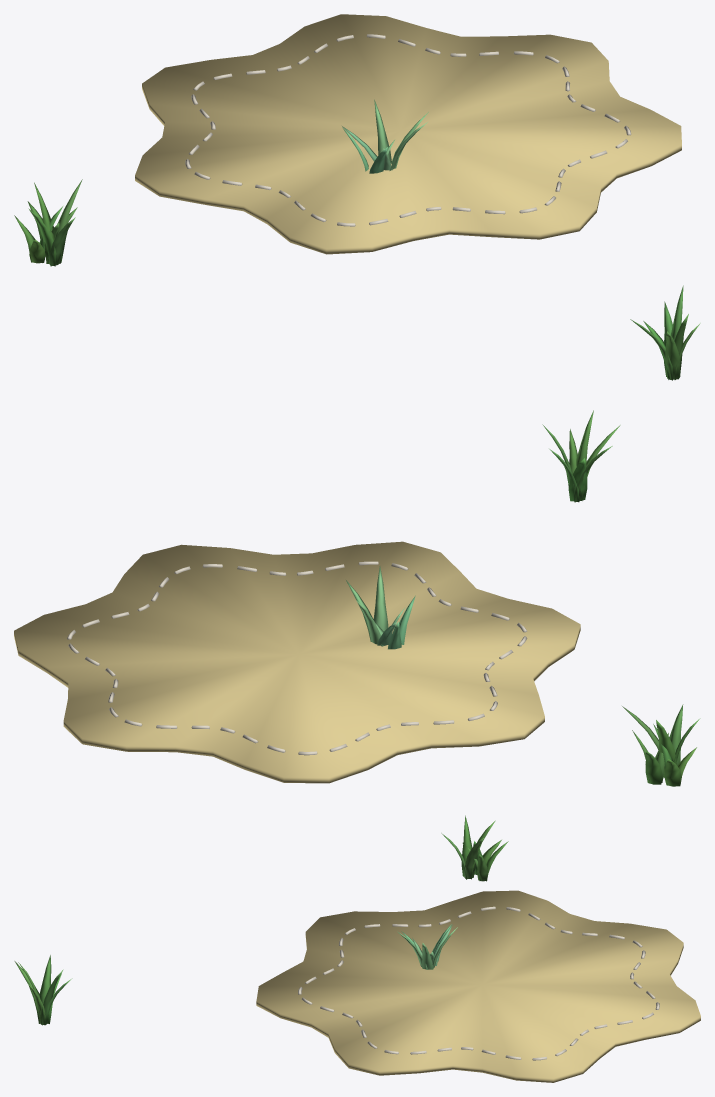
File: W3_FloraRing_12_11.fbx
3 views of the same model, one above another, from view 1: azimuth 30°, elevation 25°; view 2: azimuth 150°, elevation 25°; view 3: azimuth 270°, elevation 25° (orthographic). The views are drawn at different scales.
Parts seen in each view (by area): view 1: W3_FloraRing_12_11; view 2: W3_FloraRing_12_11; view 3: W3_FloraRing_12_11.
Part boxes in pixels (x1,y1,x2,y2): W3_FloraRing_12_11: (14,14,700,380); W3_FloraRing_12_11: (14,410,700,786); W3_FloraRing_12_11: (14,815,700,1082).
Size of the model in its own units: 1.07 by 0.1694 by 1.28.
